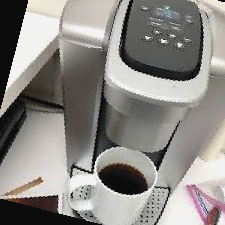10oz: (159, 38, 167, 45)
12oz: (175, 41, 184, 48)
4oz: (60, 35, 105, 52), (153, 29, 162, 36)
6oz: (168, 32, 176, 39)
8oz: (144, 35, 152, 42)
coffee_handle: (116, 85, 183, 113)
